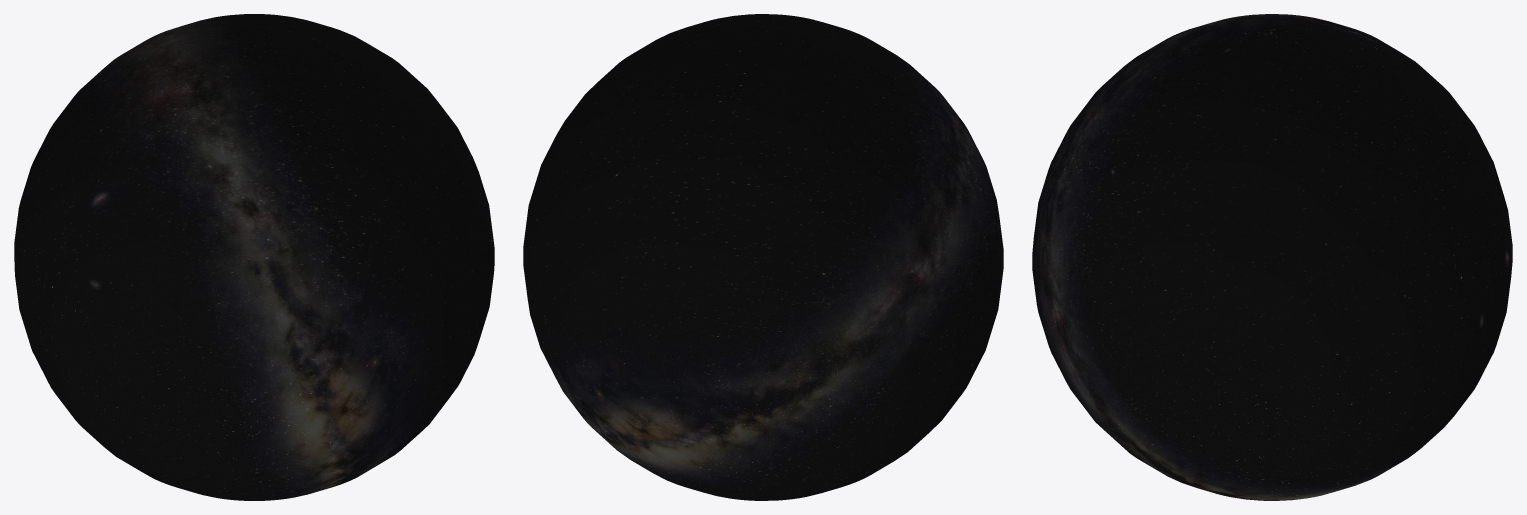
Rendered from nyt_insight__model___Mars_starfield_milkyway.glb.
The picture shows the model from 3 angles, left to right: view 1: azimuth 30°, elevation 25°; view 2: azimuth 150°, elevation 25°; view 3: azimuth 270°, elevation 25°; orthographic projection.
Parts seen in each view (by area): view 1: pSphere2; view 2: pSphere2; view 3: pSphere2.
Part boxes in pixels (x1=…): pSphere2: x1=14, y1=14, x2=494, y2=500; pSphere2: x1=523, y1=14, x2=1003, y2=500; pSphere2: x1=1032, y1=14, x2=1512, y2=500.
Size of the model in its own units: 0.0688 by 0.0701 by 0.0688.
1 material, 1 textured.
